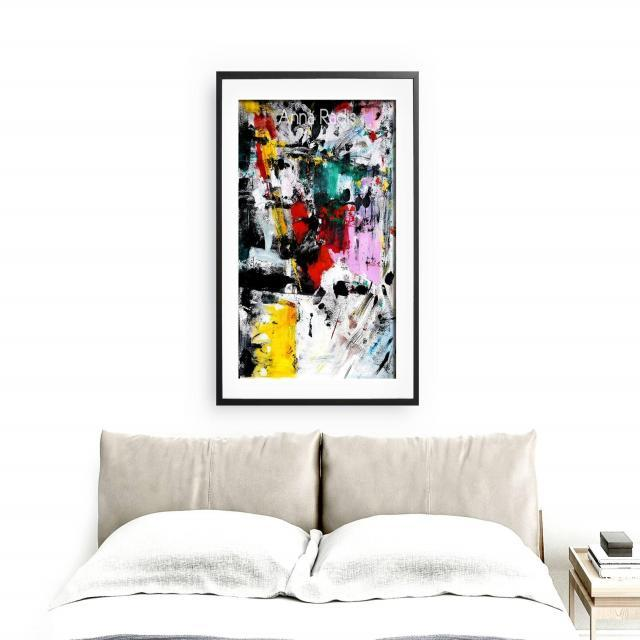painting: (218, 72, 417, 402)
